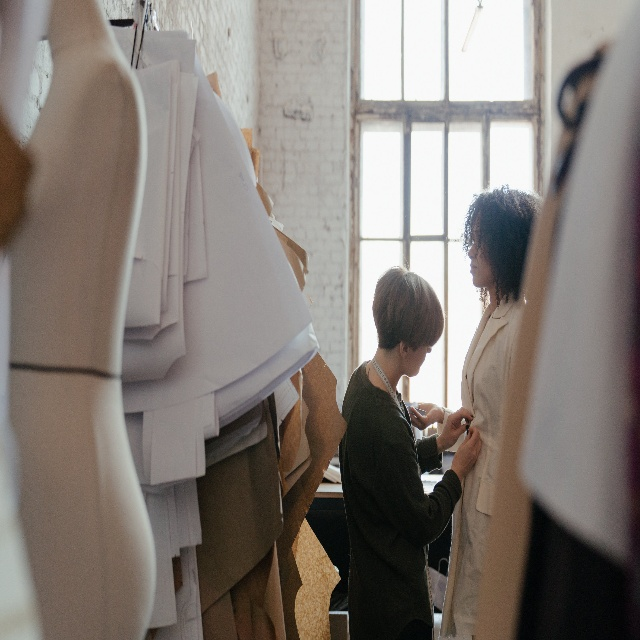Sin_guantes: (438, 406, 473, 454), (452, 427, 482, 479), (407, 402, 442, 430)
